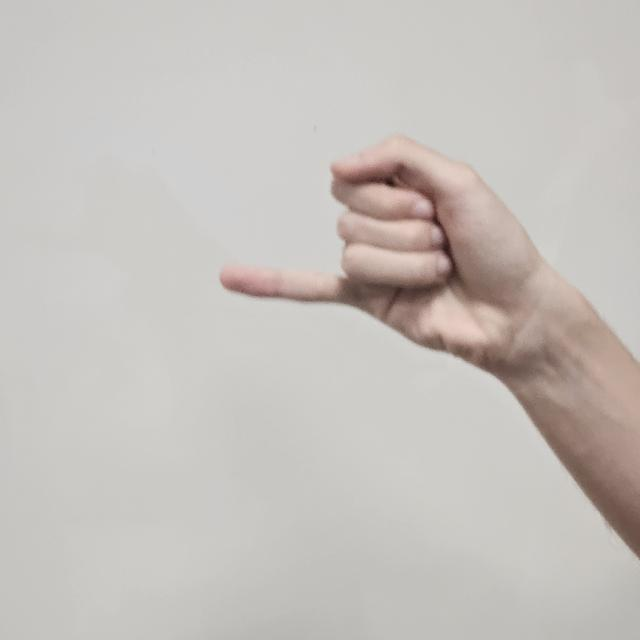Esquerda: (232, 122, 518, 382)
